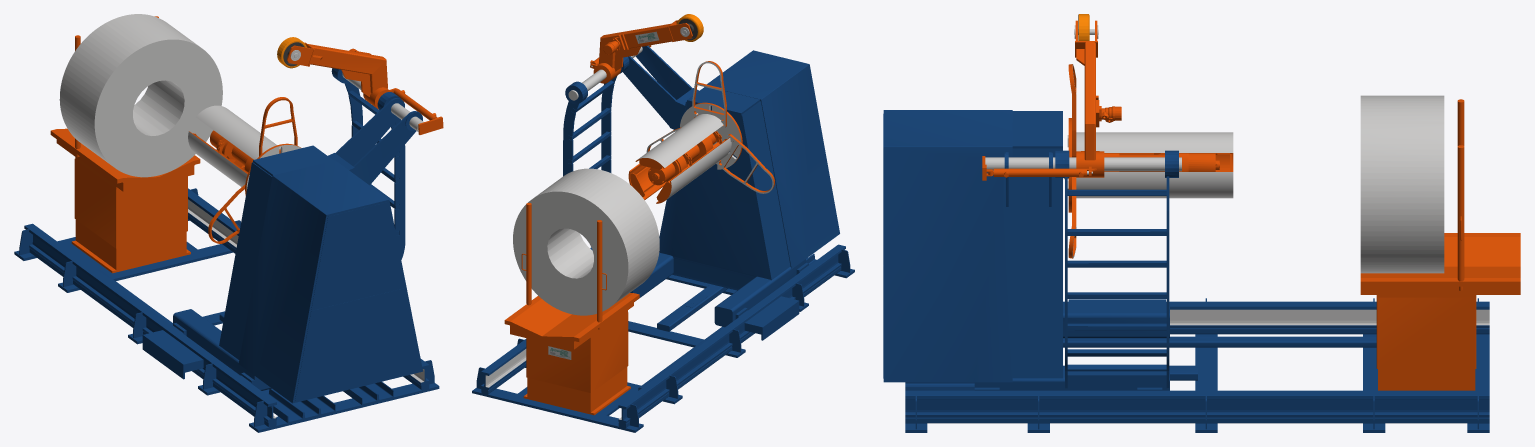
File: linea lunga PROVA ANIMAZIONI.glb
3 views of the same model, side by side, from view 1: azimuth 30°, elevation 25°; view 2: azimuth 150°, elevation 25°; view 3: azimuth 270°, elevation 25° (orthographic). The views are drawn at different scales.
Parts seen in each view (by area): view 1: CORPO ASPO, COIL CHIUSO.PICCOLO, BASAMENTO ASPO.003, CARTER SELLA, BRACCIO PRESSORE.003, SELLA, LINEA LUNGA_Semplifica_1.036, SELLA.001, TEGOLO, ATTACCO, TRAVERSO.001, TRAVERSO.004 (+5 smaller); view 2: CORPO ASPO, COIL CHIUSO.PICCOLO, BASAMENTO ASPO.003, CARTER SELLA, SELLA.001, BRACCIO PRESSORE.003, SELLA, TEGOLO, TRAVERSO, LINEA LUNGA_Semplifica_1.036, ATTACCO, TEGOLO.005 (+10 smaller); view 3: CORPO ASPO, BASAMENTO ASPO.003, COIL CHIUSO.PICCOLO, CARTER SELLA, SELLA.001, LINEA LUNGA_Semplifica_1.036, TEGOLO.010, BRACCIO PRESSORE.003, TEGOLO, BRACCIO PRESSORE.001, SELLA, TRAVERSO.002 (+4 smaller).
Part boxes in pixels (bbox=[...]): CORPO ASPO: bbox=[173, 68, 422, 403]; COIL CHIUSO.PICCOLO: bbox=[59, 14, 222, 177]; BASAMENTO ASPO.003: bbox=[24, 188, 429, 427]; CARTER SELLA: bbox=[74, 159, 187, 248]; BRACCIO PRESSORE.003: bbox=[277, 37, 396, 109]; SELLA: bbox=[71, 219, 190, 273]; LINEA LUNGA_Semplifica_1.036: bbox=[97, 269, 393, 422]; SELLA.001: bbox=[50, 128, 200, 191]; TEGOLO: bbox=[196, 105, 280, 159]; ATTACCO: bbox=[142, 330, 203, 379]; TRAVERSO.001: bbox=[58, 244, 232, 292]; TRAVERSO.004: bbox=[249, 383, 439, 432]; CORPO ASPO: bbox=[563, 45, 839, 327]; COIL CHIUSO.PICCOLO: bbox=[513, 168, 659, 315]; BASAMENTO ASPO.003: bbox=[481, 244, 845, 428]; CARTER SELLA: bbox=[526, 312, 628, 392]; SELLA.001: bbox=[504, 293, 639, 349]; BRACCIO PRESSORE.003: bbox=[590, 14, 703, 83]; SELLA: bbox=[523, 367, 630, 415]; TEGOLO: bbox=[635, 114, 723, 169]; TRAVERSO: bbox=[472, 388, 643, 432]; LINEA LUNGA_Semplifica_1.036: bbox=[638, 253, 816, 390]; ATTACCO: bbox=[744, 296, 799, 340]; TEGOLO.005: bbox=[656, 137, 731, 203]; CORPO ASPO: bbox=[883, 110, 1178, 390]; BASAMENTO ASPO.003: bbox=[905, 301, 1489, 423]; COIL CHIUSO.PICCOLO: bbox=[1360, 95, 1444, 273]; CARTER SELLA: bbox=[1376, 295, 1476, 368]; SELLA.001: bbox=[1360, 233, 1520, 297]; LINEA LUNGA_Semplifica_1.036: bbox=[905, 336, 1376, 390]; TEGOLO.010: bbox=[1067, 172, 1233, 198]; BRACCIO PRESSORE.003: bbox=[1074, 14, 1121, 177]; TEGOLO: bbox=[1067, 132, 1233, 154]; BRACCIO PRESSORE.001: bbox=[982, 156, 1181, 180]; SELLA: bbox=[1378, 369, 1475, 390]; TRAVERSO.002: bbox=[1195, 334, 1217, 432].
Size of the model in its own units: 2.25 by 2.97 by 4.58.
Materials: 8 (2 with a texture image).
